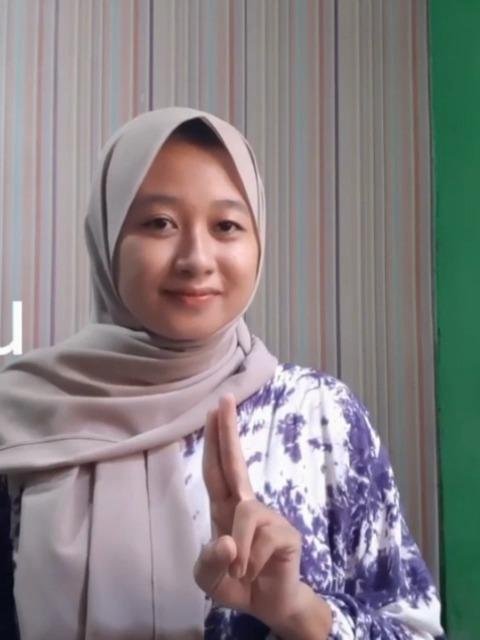U: (187, 390, 310, 628)
